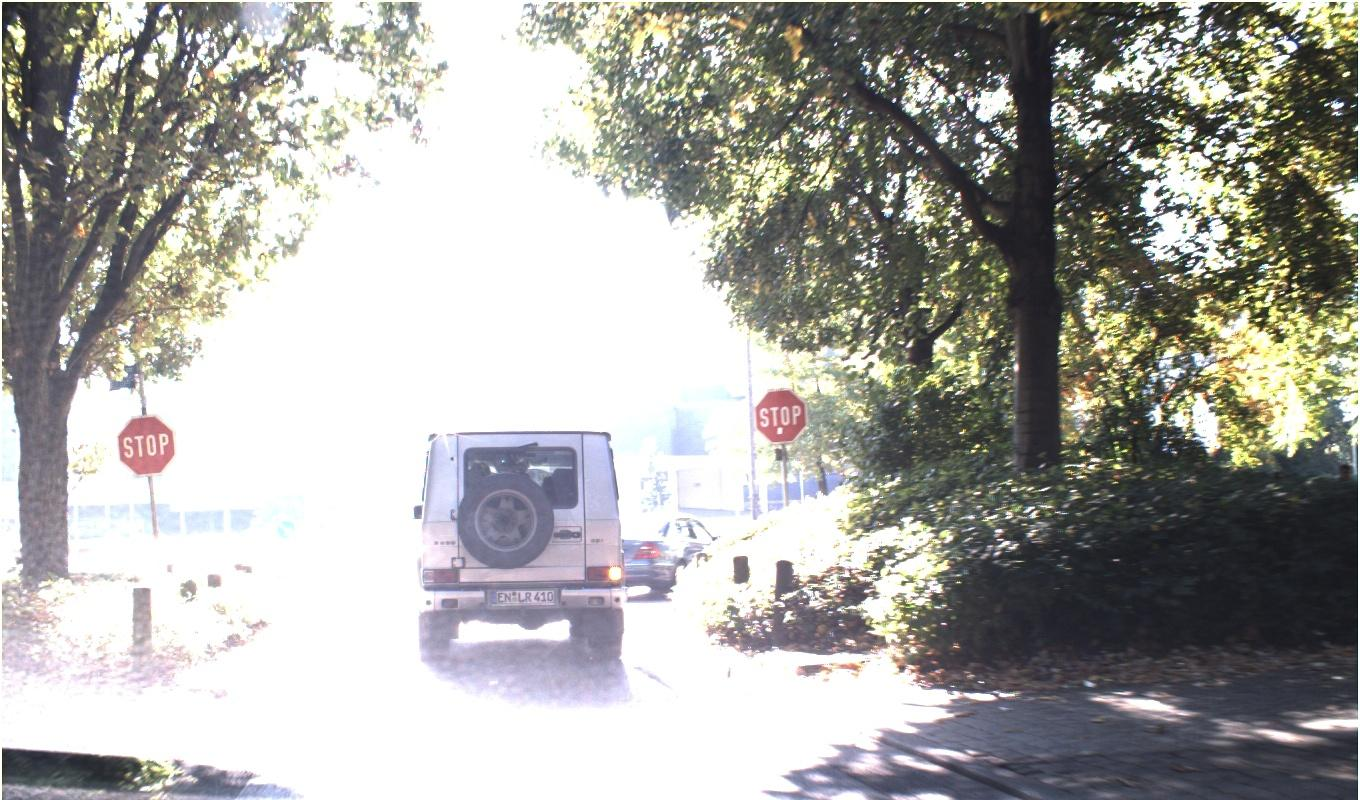stop: (116, 387, 808, 477)
